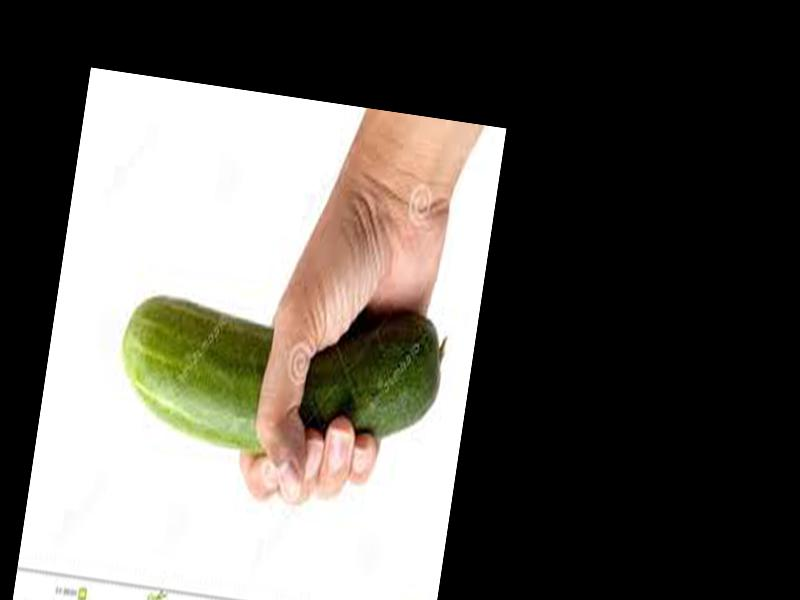Cucumber: (108, 273, 446, 480)
